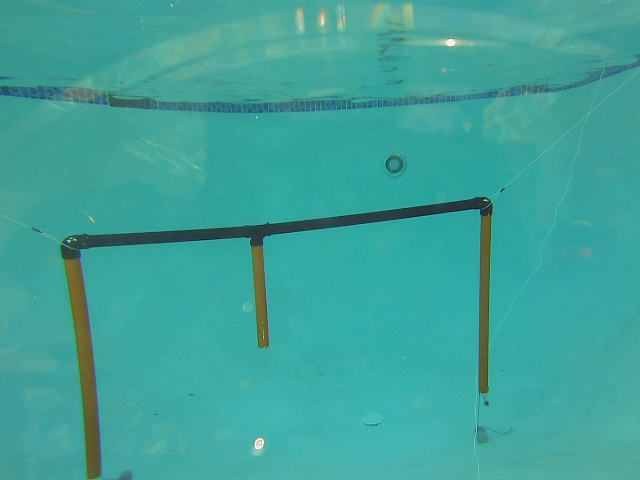Gate: (58, 248, 110, 480), (475, 210, 493, 396), (247, 234, 274, 351)
